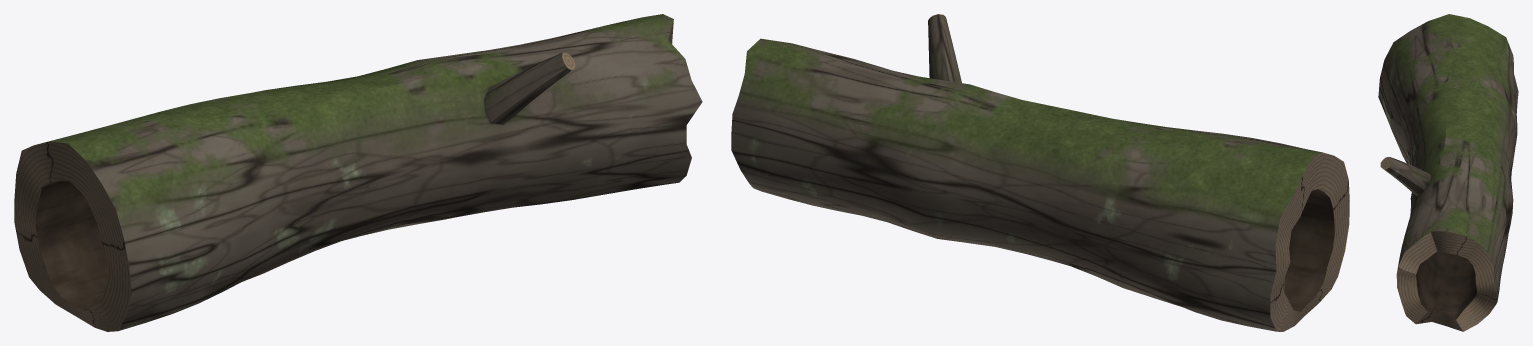
The model's file is fm_log_hollow.glb.
The picture shows the model from 3 angles, left to right: view 1: azimuth 30°, elevation 25°; view 2: azimuth 150°, elevation 25°; view 3: azimuth 270°, elevation 25°; orthographic projection. The views are drawn at different scales.
Visible parts, largest first — view 1: fm_log_hollow; view 2: fm_log_hollow; view 3: fm_log_hollow.
Part boxes in pixels (x1,y1,x2,y2): fm_log_hollow: [14, 14, 702, 331]; fm_log_hollow: [731, 14, 1349, 331]; fm_log_hollow: [1378, 14, 1518, 331].
Size of the model in its own units: 2.54 by 0.7447 by 0.7313.
Materials: 1 (1 with a texture image).
